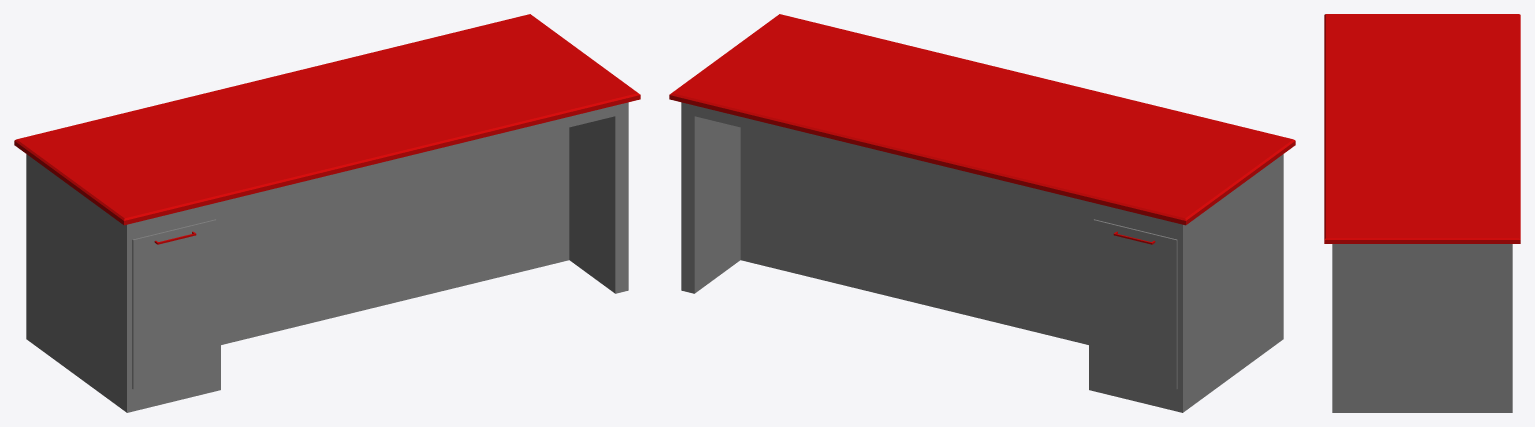
The model's file is Table.fbx.
3 renders of one model, left to right at view 1: azimuth 30°, elevation 25°; view 2: azimuth 150°, elevation 25°; view 3: azimuth 270°, elevation 25°, orthographic. The views are drawn at different scales.
Parts seen in each view (by area): view 1: centerTable_01; view 2: centerTable_01; view 3: centerTable_01.
Boxes of the visible parts, x1=… form: centerTable_01: x1=14, y1=14, x2=640, y2=412; centerTable_01: x1=669, y1=14, x2=1295, y2=412; centerTable_01: x1=1324, y1=14, x2=1520, y2=412.
Size of the model in its own units: 679 by 250 by 250.
